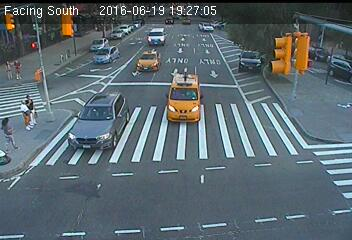neg: (170, 61, 201, 101), (283, 110, 312, 149), (268, 39, 296, 77), (263, 162, 291, 200), (103, 44, 131, 81), (201, 41, 228, 76), (68, 98, 94, 133), (67, 161, 93, 196), (180, 132, 205, 166), (166, 181, 187, 209), (125, 103, 144, 129), (250, 81, 269, 107), (236, 118, 254, 143), (159, 40, 166, 50)
pos: (1, 116, 24, 146), (17, 99, 38, 127)
